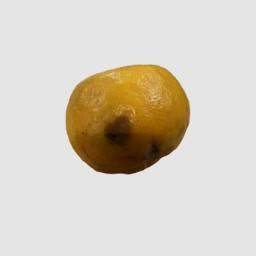Unripe: (65, 61, 191, 176)
